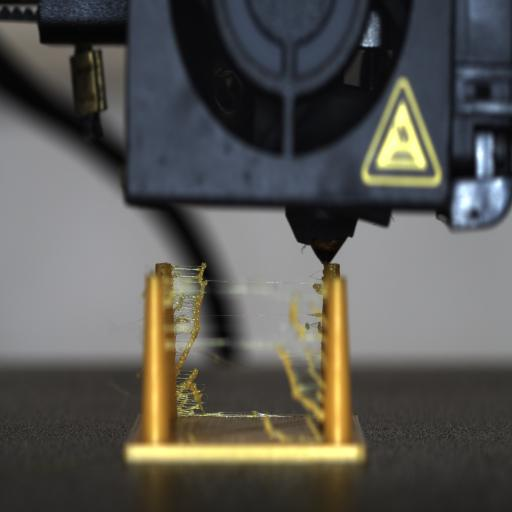stringing: (176, 377, 206, 415), (312, 282, 323, 294)
